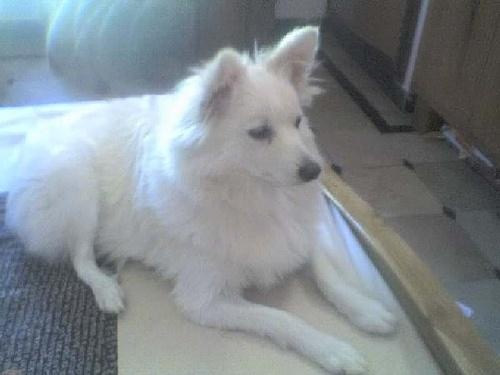dog: (15, 22, 404, 375)
